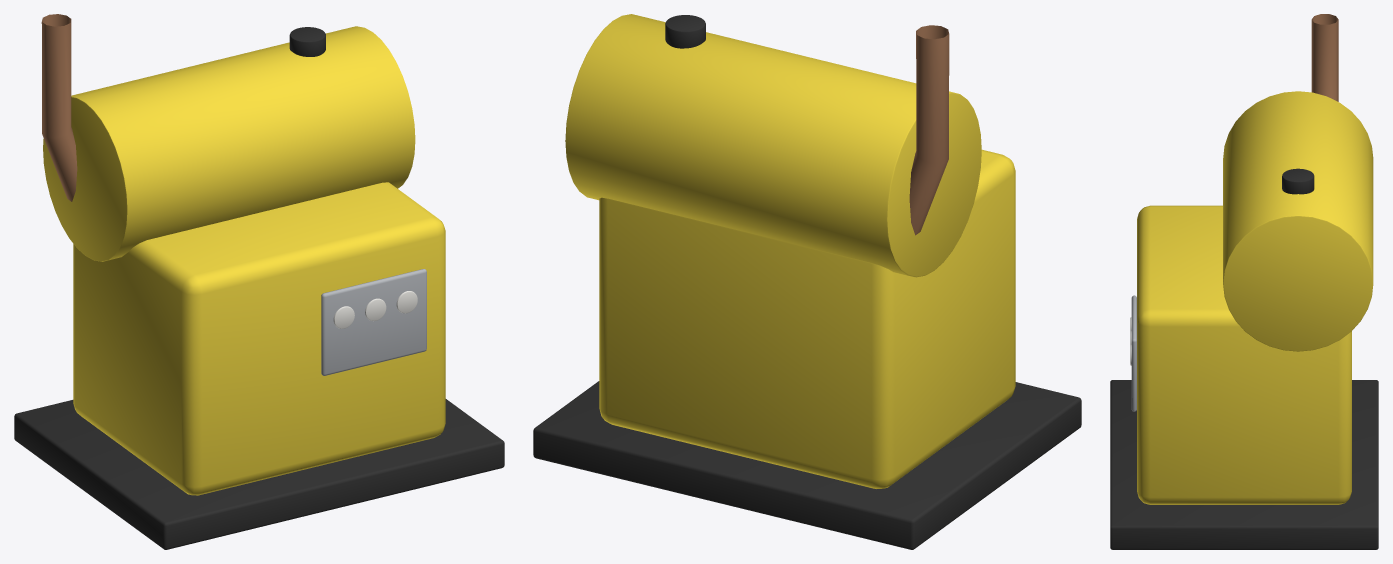
Rendered from generator.glb.
3 renders of one model, left to right at view 1: azimuth 30°, elevation 25°; view 2: azimuth 150°, elevation 25°; view 3: azimuth 270°, elevation 25°, orthographic. The views are drawn at different scales.
Parts seen in each view (by area): view 1: engine, tank, frame, panel, exhaust, cap; view 2: engine, tank, frame, exhaust, cap; view 3: engine, tank, frame, exhaust, cap, panel.
Part boxes in pixels (x1,y1,x2,y2): engine: [73, 182, 445, 495]; tank: [43, 26, 415, 261]; frame: [14, 399, 504, 549]; panel: [321, 269, 426, 375]; exhaust: [41, 14, 77, 201]; cap: [289, 27, 325, 56]; engine: [599, 149, 1015, 488]; tank: [565, 14, 981, 277]; frame: [533, 381, 1081, 549]; exhaust: [909, 25, 949, 235]; cap: [665, 15, 705, 48]; engine: [1137, 205, 1351, 504]; tank: [1223, 91, 1373, 351]; frame: [1110, 380, 1378, 549]; exhaust: [1311, 14, 1338, 101]; cap: [1282, 168, 1314, 194]; panel: [1131, 295, 1136, 411].
Bounding box in the file's own units: 1.3 × 1.6 × 1.
